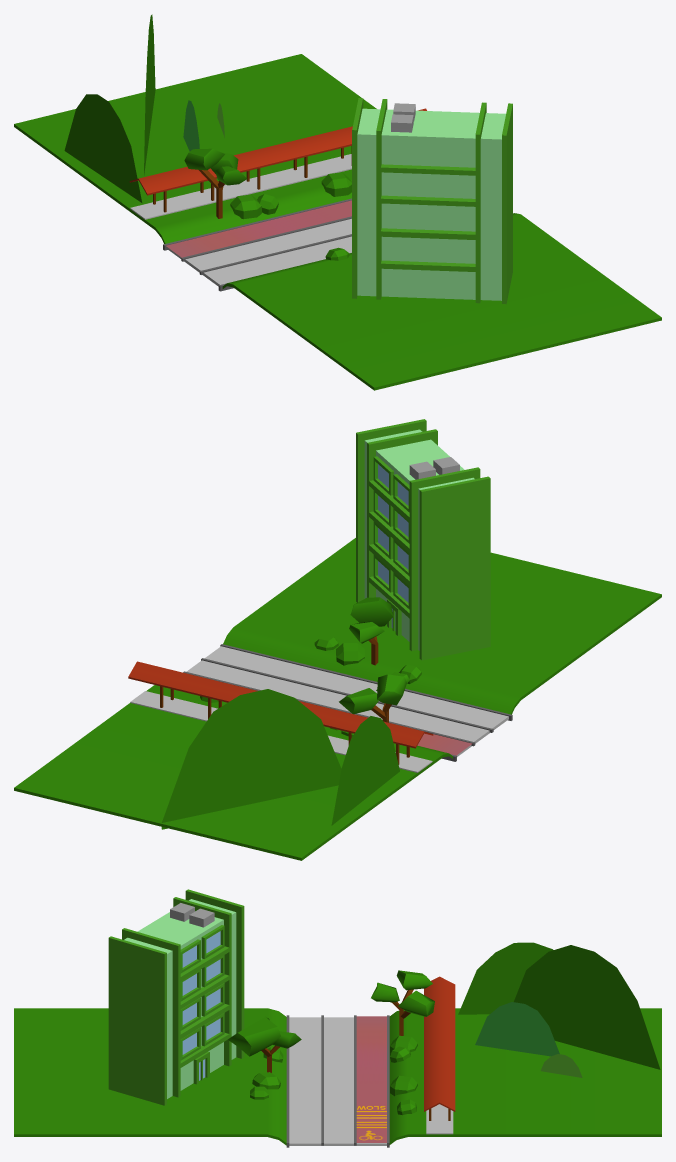
File: Level 1 Chunk 4 V2.fbx
The picture shows the model from 3 angles, top to bottom: view 1: azimuth 30°, elevation 25°; view 2: azimuth 150°, elevation 25°; view 3: azimuth 270°, elevation 25°; orthographic projection. The views are drawn at different scales.
Visible parts, largest first — view 1: pCube7978, Building_D29, pCube7975, pCube7977, pasted__pCube5673, pCube7980, pCube7963, pCube7952, pCube7944, pasted__pasted__pCube5555, Bushes190, Bushes193 (+1 smaller); view 2: pCube7978, Building_D29, pCube7975, pasted__pasted__pCube5555, pCube7977, pasted__pCube5673, pCube7980, pCube7963, pCube7944, pCube7943, pCube7974, pCube7976 (+1 smaller); view 3: Building_D29, pCube7978, pCube7975, pasted__pasted__pCube5555, pCube7977, pCube7952, pCube7980, pasted__pCube5673, pasted__pasted__pCube5554, pCube7944, pCube7943, pCube7963 (+7 smaller).
Boxes of the visible parts, box(x1,y1,x2,y2) form: pCube7978: box(222, 213, 661, 390); Building_D29: box(352, 98, 512, 304); pCube7975: box(14, 54, 376, 243); pCube7977: box(167, 218, 351, 286); pasted__pCube5673: box(64, 94, 142, 202); pCube7980: box(129, 108, 426, 195); pCube7963: box(130, 154, 351, 219); pCube7952: box(166, 200, 351, 257); pCube7944: box(184, 148, 246, 218); pasted__pasted__pCube5555: box(144, 14, 155, 175); Bushes190: box(230, 194, 261, 219); Bushes193: box(321, 172, 351, 196); pCube7978: box(223, 538, 661, 714); Building_D29: box(356, 419, 490, 660); pCube7975: box(14, 685, 452, 860); pasted__pasted__pCube5555: box(161, 689, 341, 829); pCube7977: box(186, 646, 508, 756); pasted__pCube5673: box(331, 716, 399, 825); pCube7980: box(128, 661, 433, 748); pCube7963: box(130, 691, 432, 772); pCube7944: box(339, 672, 409, 722); pCube7943: box(349, 597, 393, 665); pCube7974: box(220, 644, 512, 720); pCube7976: box(201, 658, 493, 732); Building_D29: box(108, 889, 244, 1105); pCube7978: box(14, 1008, 286, 1145); pCube7975: box(389, 1008, 661, 1144); pasted__pasted__pCube5555: box(514, 945, 660, 1069); pCube7977: box(289, 1017, 386, 1145); pCube7952: box(356, 1016, 386, 1142); pCube7980: box(424, 976, 455, 1111); pasted__pCube5673: box(458, 942, 553, 1014); pasted__pasted__pCube5554: box(475, 1002, 559, 1056); pCube7944: box(371, 970, 434, 1035); pCube7943: box(228, 1017, 301, 1072); pCube7963: box(426, 1104, 453, 1134).
Bounding box in the file's own units: 12.38 × 7.52 × 26.56.
3 materials, 3 textured.
